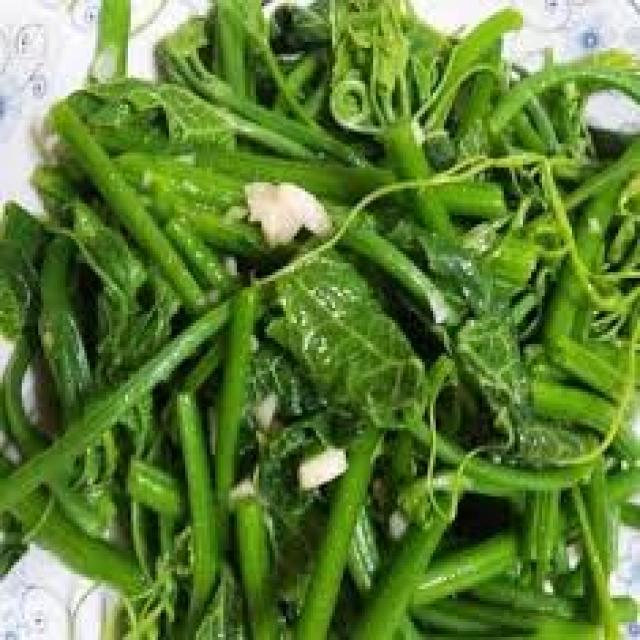food_waste: (0, 0, 637, 637)
